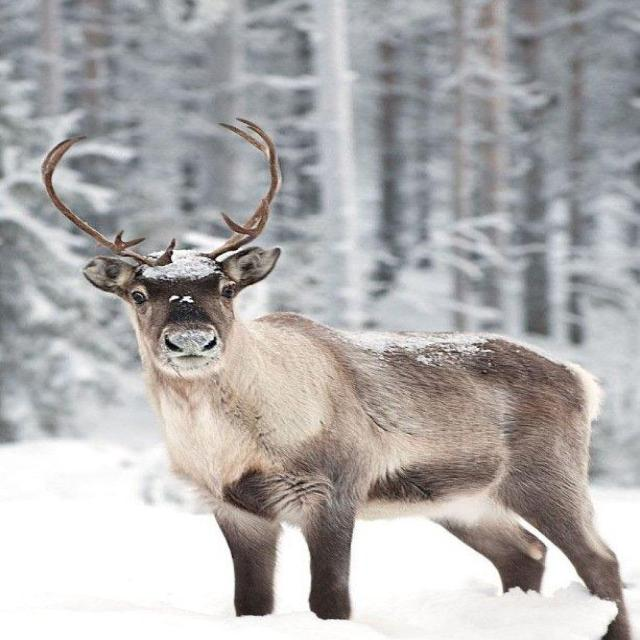Deer: (25, 120, 630, 638)
